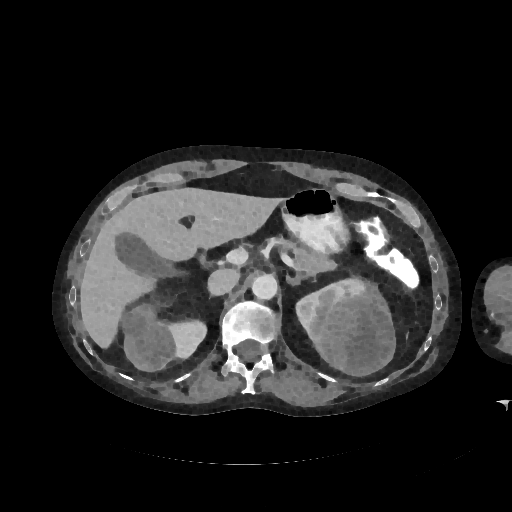Lesion: (118, 306, 180, 373)
